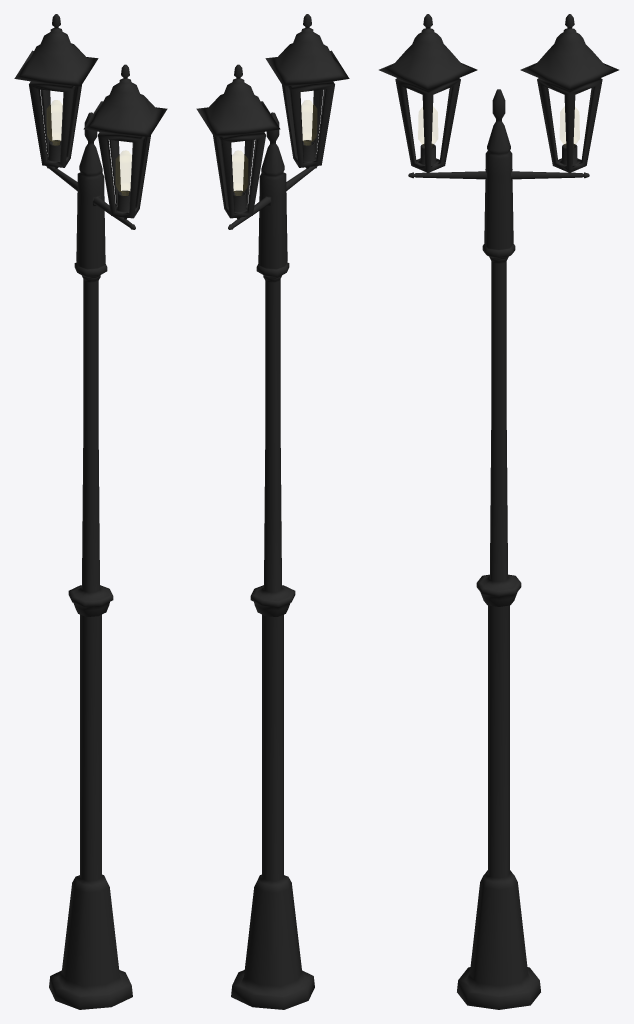
File: SM_Streetlight.fbx
3 views of the same model, side by side, from view 1: azimuth 30°, elevation 25°; view 2: azimuth 150°, elevation 25°; view 3: azimuth 270°, elevation 25° (orthographic). The views are drawn at different scales.
Visible parts, largest first — view 1: LamPost, Bulbs; view 2: LamPost, Bulbs; view 3: LamPost, Bulbs.
Part boxes in pixels (x1,y1,x2,y2): LamPost: (14,14,167,1009); Bulbs: (47,100,131,195); LamPost: (196,14,349,1009); Bulbs: (232,100,316,195); LamPost: (379,14,618,1009); Bulbs: (418,107,579,144).
Size of the model in its own units: 26.28 by 284 by 63.53.
